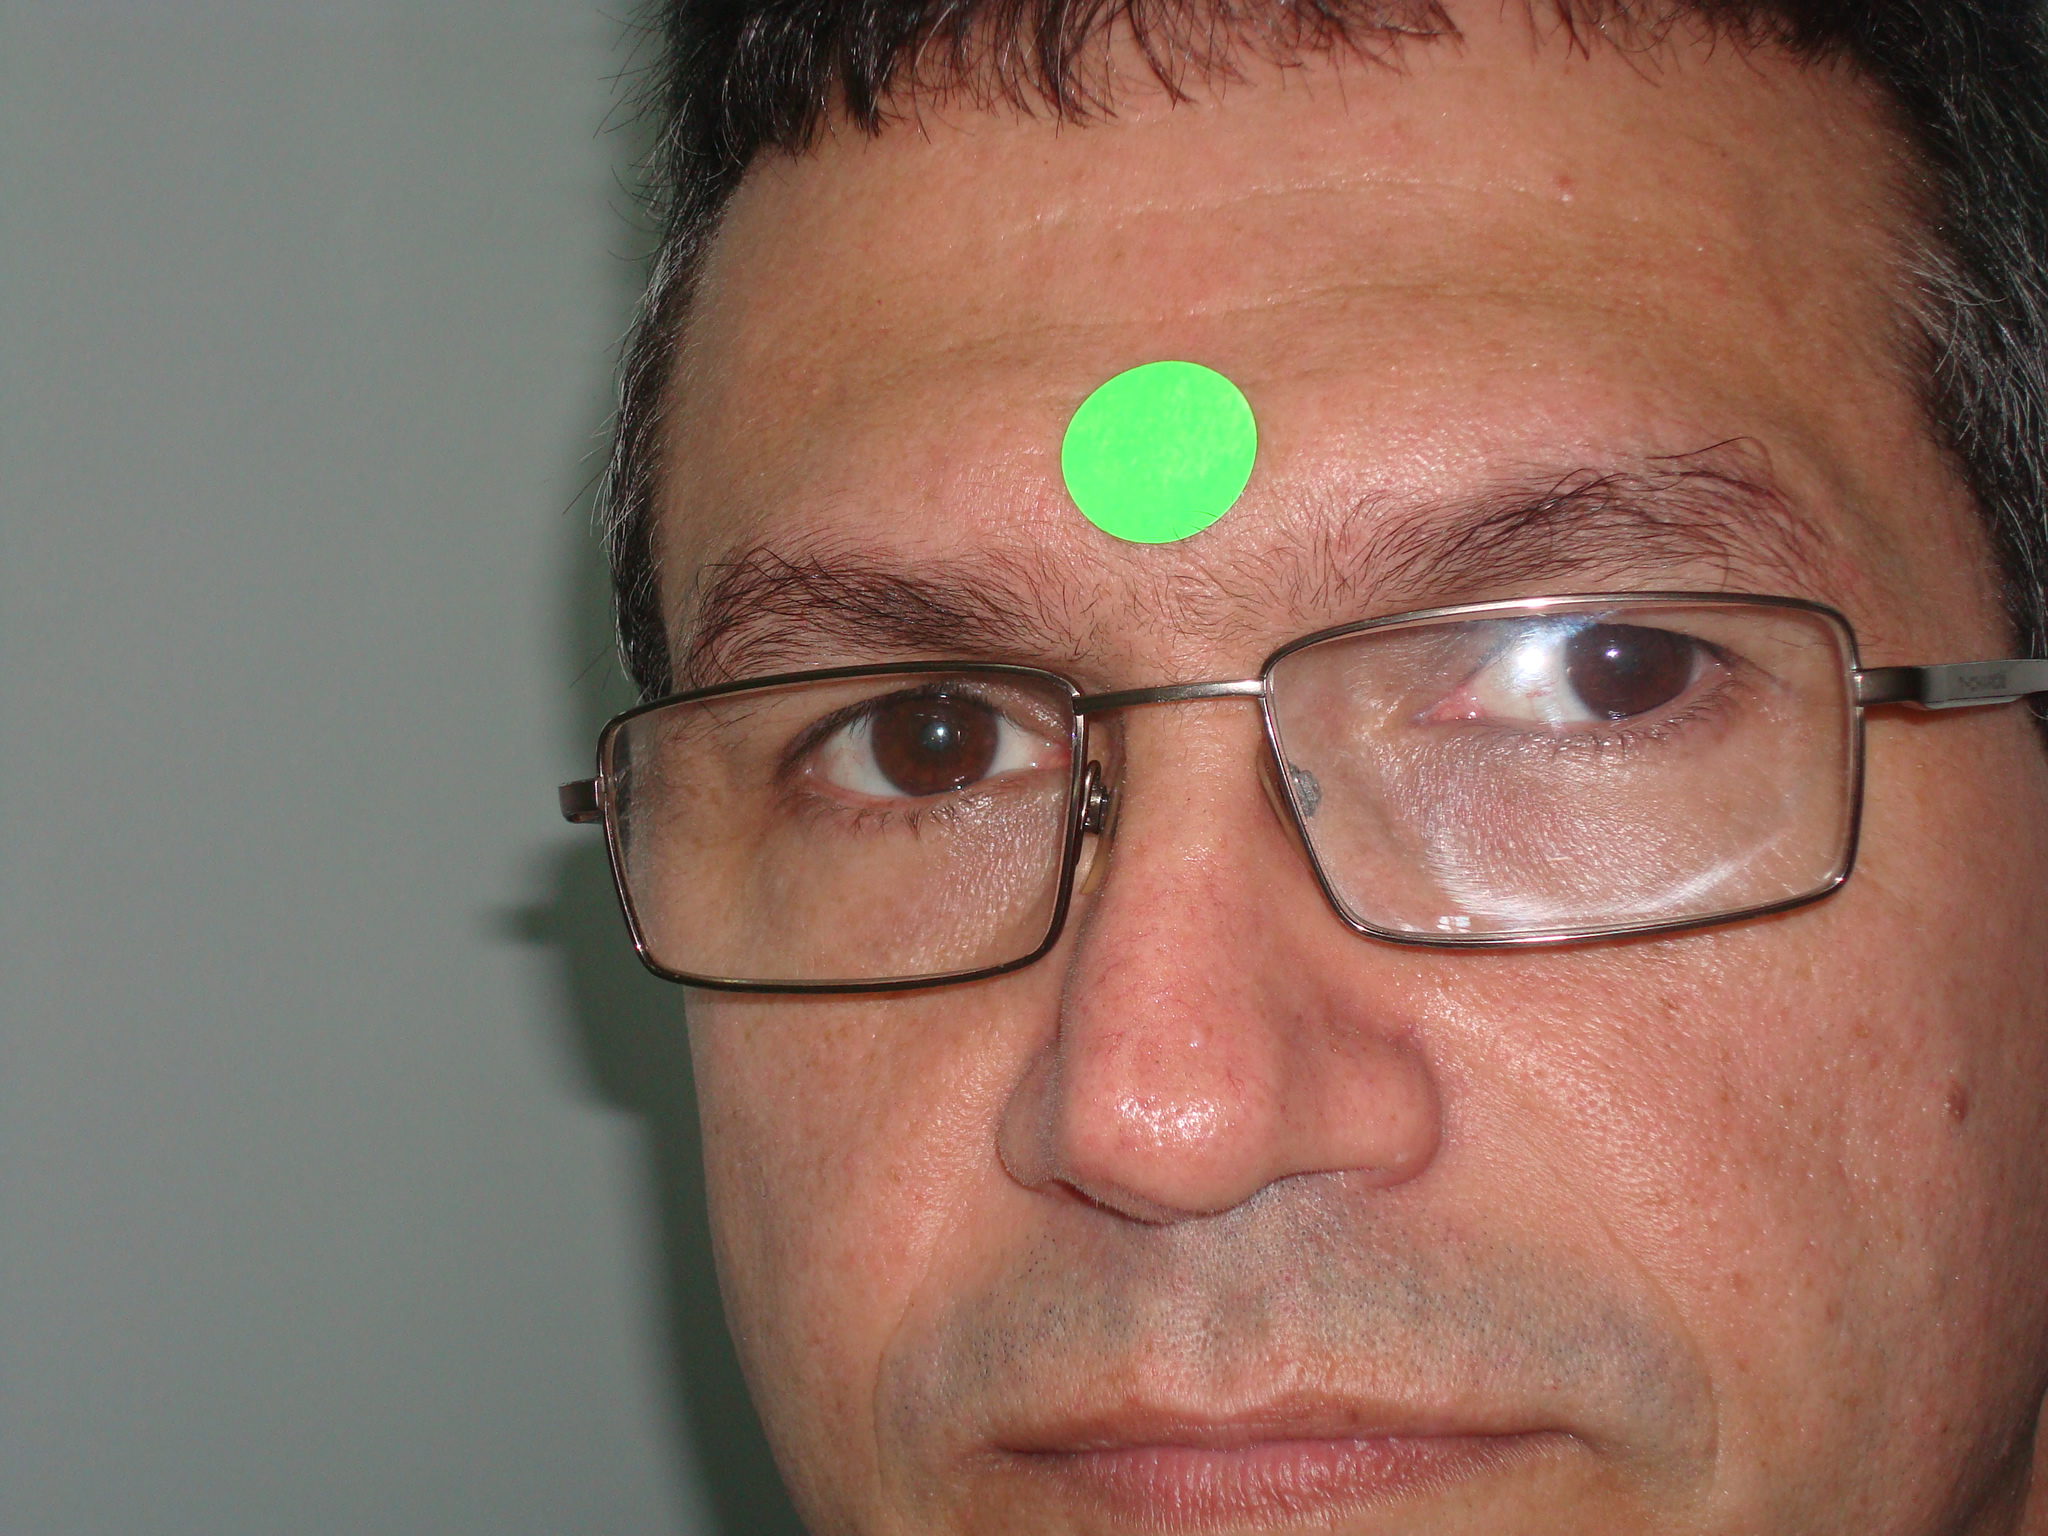flash: (930, 721, 951, 742), (1603, 644, 1622, 662)
limbo: (872, 678, 1001, 794), (1561, 602, 1688, 713)
